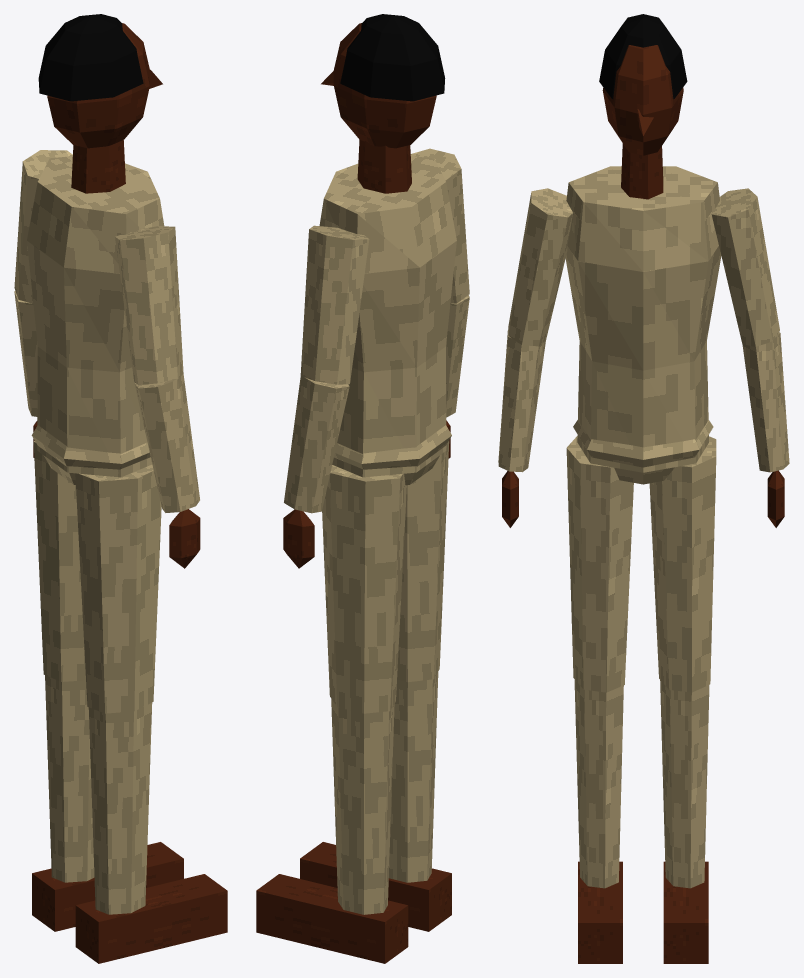
The model's file is prisionero.glb.
The picture shows the model from 3 angles, left to right: view 1: azimuth 30°, elevation 25°; view 2: azimuth 150°, elevation 25°; view 3: azimuth 270°, elevation 25°; orthographic projection. The views are drawn at different scales.
Visible parts, largest first — view 1: torso, muslo_der, pierna_der, muslo_izq, pierna_izq, brazo_der, pie_der, cabello, antebrazo_der, cabeza, pie_izq, brazo_izq (+4 smaller); view 2: torso, muslo_izq, pierna_izq, muslo_der, pierna_der, brazo_izq, pie_izq, cabello, antebrazo_izq, cabeza, pie_der, brazo_der (+4 smaller); view 3: torso, muslo_der, muslo_izq, pierna_izq, pierna_der, brazo_izq, brazo_der, cabeza, antebrazo_izq, antebrazo_der, pie_izq, pie_der (+5 smaller).
Part boxes in pixels (x1,y1,x2,y2): torso: [27, 156, 164, 477]; muslo_der: [75, 464, 161, 713]; pierna_der: [88, 702, 152, 914]; muslo_izq: [33, 440, 85, 681]; pierna_izq: [45, 675, 94, 882]; brazo_der: [115, 226, 183, 384]; pie_der: [75, 874, 227, 963]; cabello: [38, 14, 143, 101]; antebrazo_der: [134, 373, 199, 512]; cabeza: [47, 23, 162, 148]; pie_izq: [32, 842, 183, 931]; brazo_izq: [14, 150, 72, 303]; torso: [319, 156, 456, 477]; muslo_izq: [322, 465, 406, 713]; pierna_izq: [331, 699, 394, 914]; muslo_der: [397, 440, 449, 682]; pierna_der: [388, 672, 438, 882]; brazo_izq: [300, 225, 369, 384]; pie_izq: [256, 874, 408, 963]; cabello: [340, 14, 445, 101]; antebrazo_izq: [284, 375, 349, 513]; cabeza: [321, 23, 436, 148]; pie_der: [300, 842, 451, 931]; brazo_der: [410, 148, 469, 303]; torso: [565, 166, 721, 472]; muslo_der: [566, 436, 633, 692]; muslo_izq: [649, 436, 716, 692]; pierna_izq: [660, 680, 709, 888]; pierna_der: [574, 679, 623, 888]; brazo_izq: [711, 188, 779, 346]; brazo_der: [508, 188, 572, 346]; cabeza: [602, 45, 683, 155]; antebrazo_izq: [742, 332, 789, 472]; antebrazo_der: [498, 330, 545, 472]; pie_izq: [663, 861, 708, 963]; pie_der: [578, 861, 622, 963].
Size of the model in its own units: 0.3 by 1.7 by 0.5.
1 material, 1 textured.
